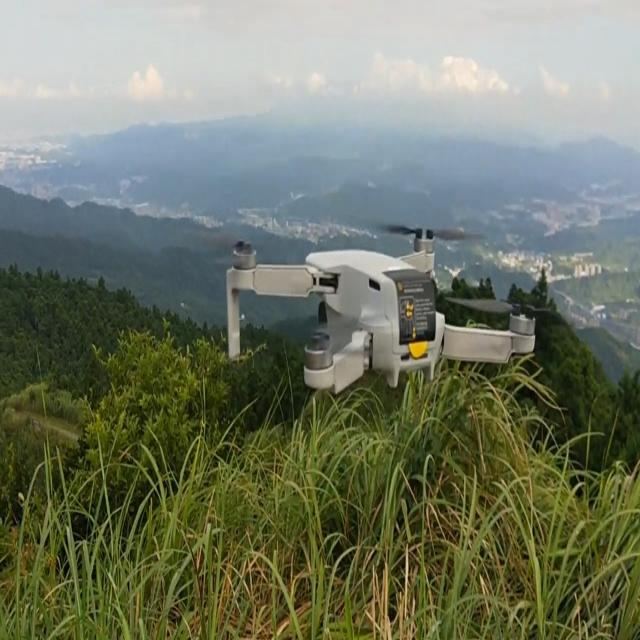Drone: (202, 207, 546, 397)
